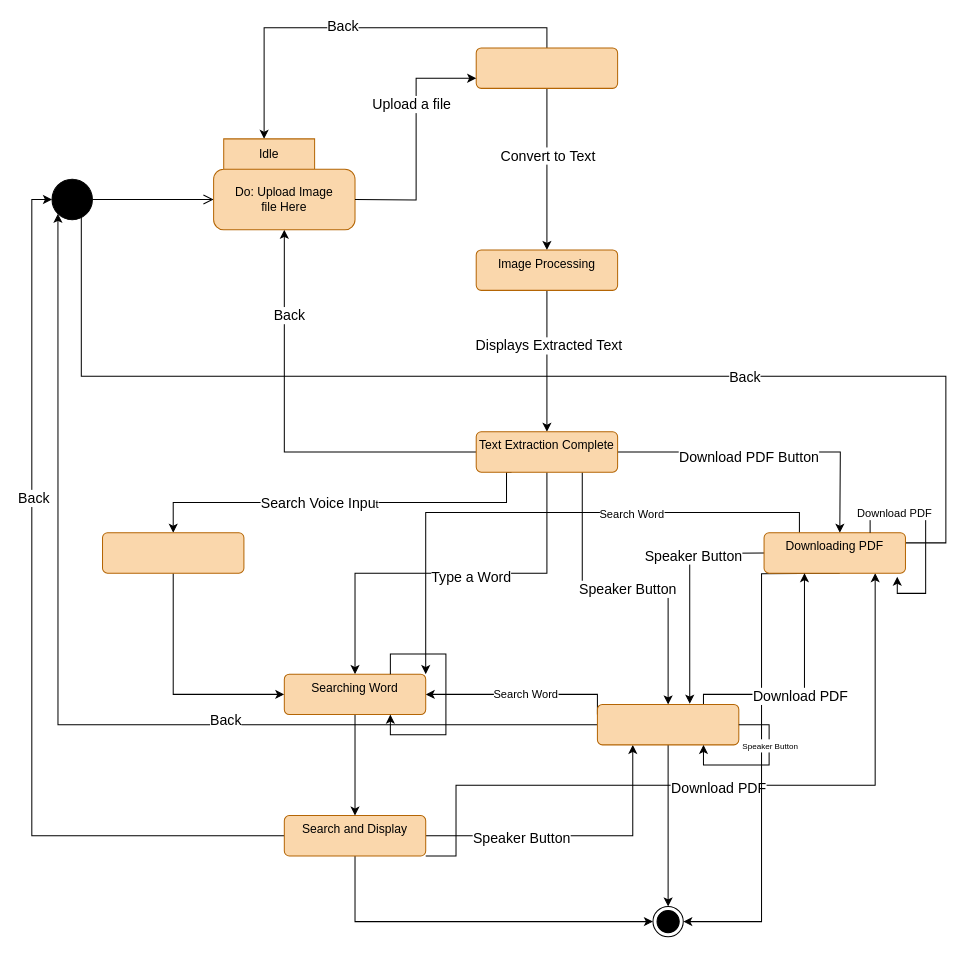
Some shapes in this 972 by 954 pixel diagram are drawn without their labels. Each missing label, with the centre of its shape:
"Image Uploaded" goes at [546,67].
"Mic On" goes at [173,552].
"Speaking" goes at [667,724].
